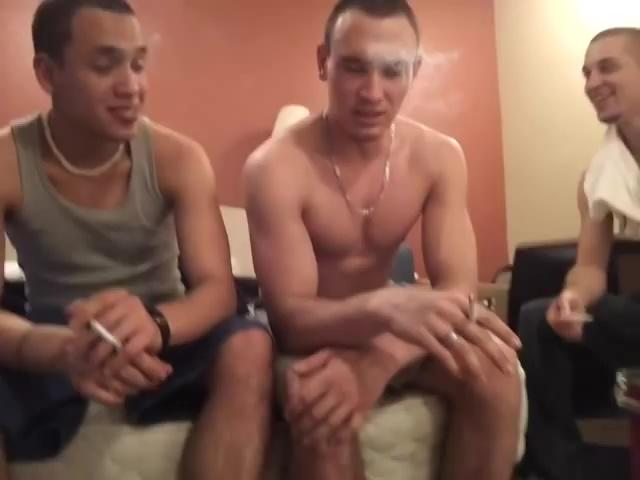cigarette: (89, 317, 126, 351), (467, 291, 480, 326)
